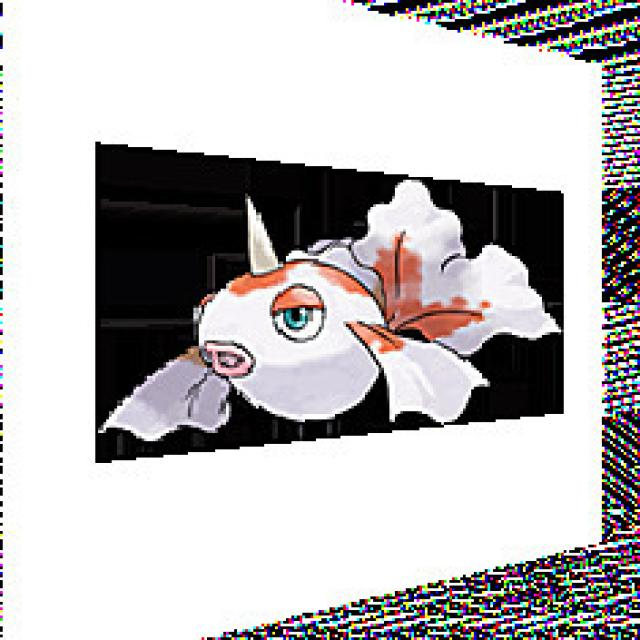Goldeen: (129, 189, 492, 437)
